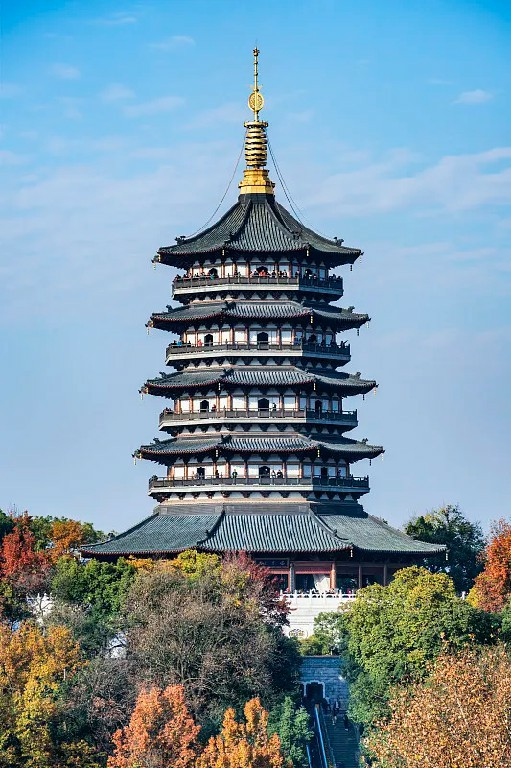Leifeng: (74, 38, 449, 595)
